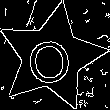O_N: (27, 29, 76, 85)
